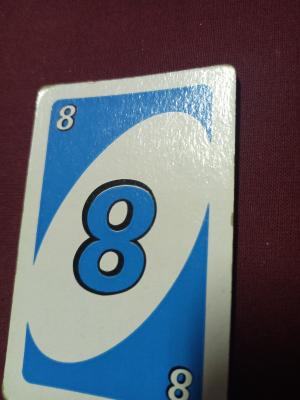blue: (45, 100, 204, 392)
num_8: (156, 356, 194, 400), (52, 100, 79, 136)
